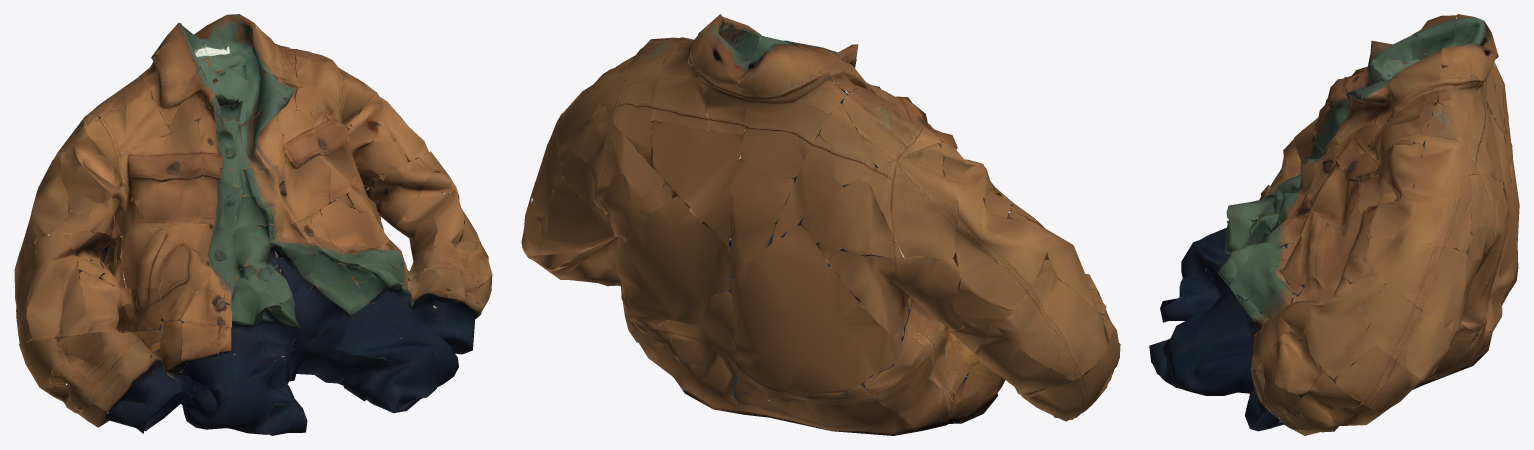
Rendered from AbandonedBloodiedWorkClothes_Optimized.glb.
3 views of the same model, side by side, from view 1: azimuth 30°, elevation 25°; view 2: azimuth 150°, elevation 25°; view 3: azimuth 270°, elevation 25° (orthographic). The views are drawn at different scales.
Visible parts, largest first — view 1: Mesh_0.001; view 2: Mesh_0.001; view 3: Mesh_0.001.
Boxes of the visible parts, bbox=[...] form: Mesh_0.001: bbox=[14, 14, 492, 435]; Mesh_0.001: bbox=[521, 14, 1120, 435]; Mesh_0.001: bbox=[1149, 14, 1519, 435].
Bounding box in the file's own units: 1.9 × 1.25 × 1.28.
Materials: 1 (1 with a texture image).
